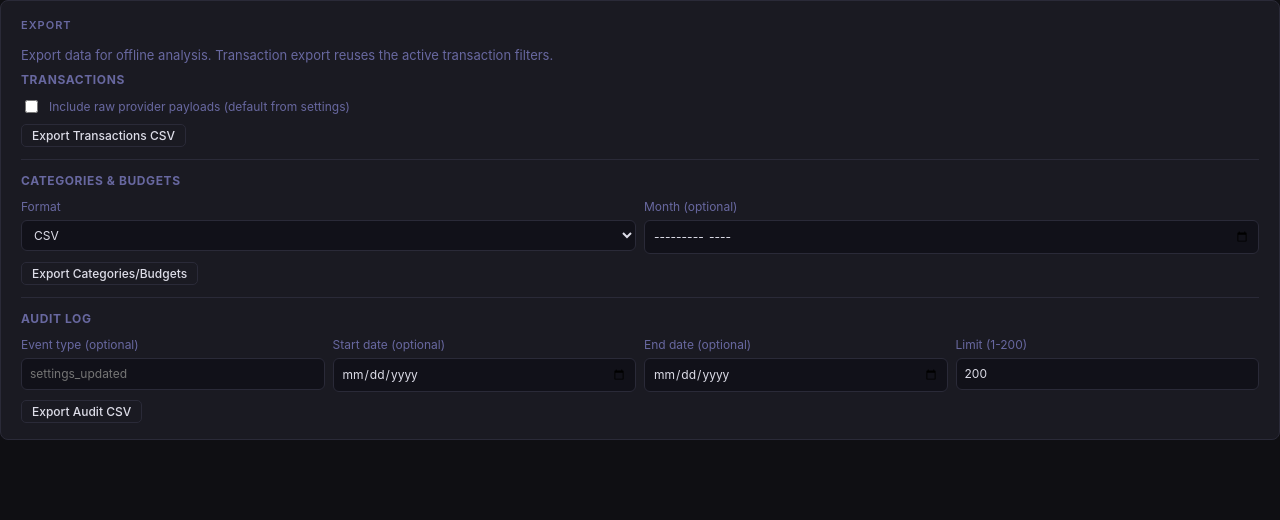
Scenario: ExportPanel › reports when transactions export save is canceled  REQ: ACC-EXP-001
Click the button with test id "export-transactions-btn" at (104, 136), box 21,124 -> 186,147
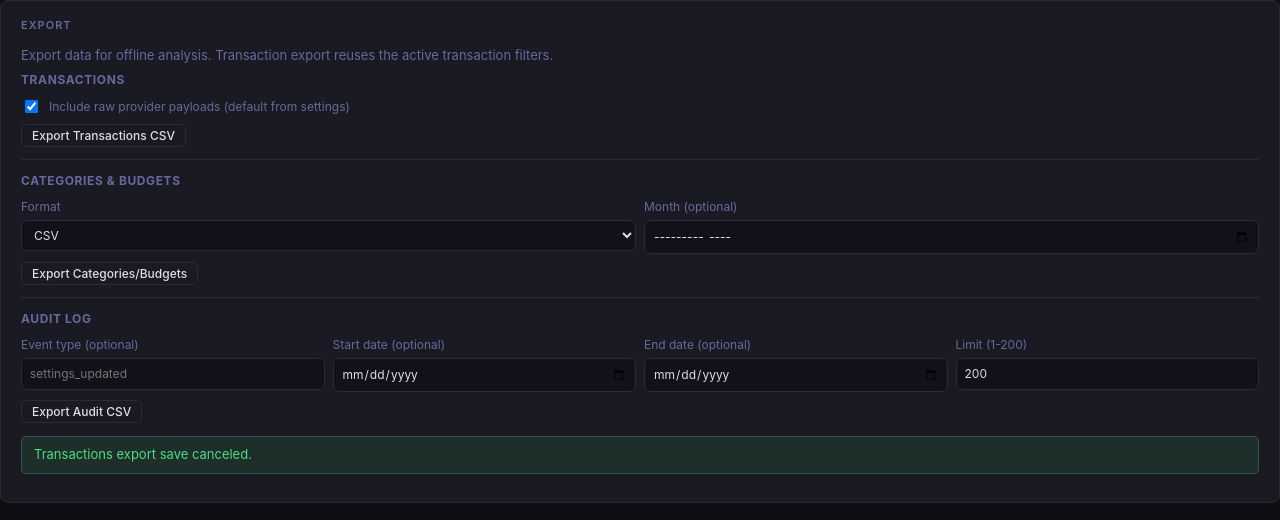
Result: the text "Transactions export save canceled." is shown at 21,436 -> 1259,474
